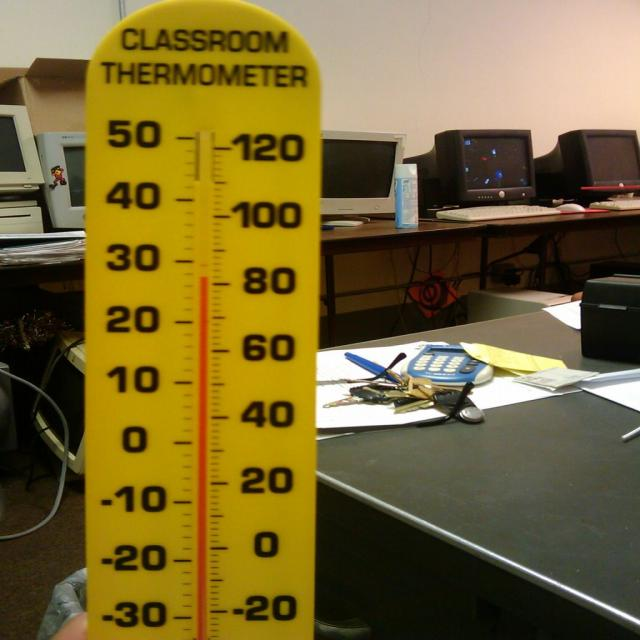desk: (464, 202, 638, 290)
keyboard: (436, 204, 560, 223)
mouse: (557, 203, 585, 213)
tv: (320, 130, 408, 216), (0, 104, 44, 192)
